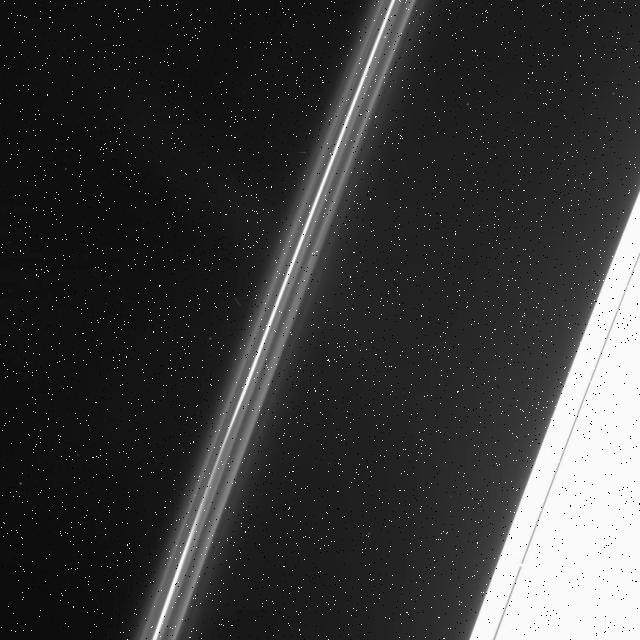Saturn: (130, 0, 640, 640)
